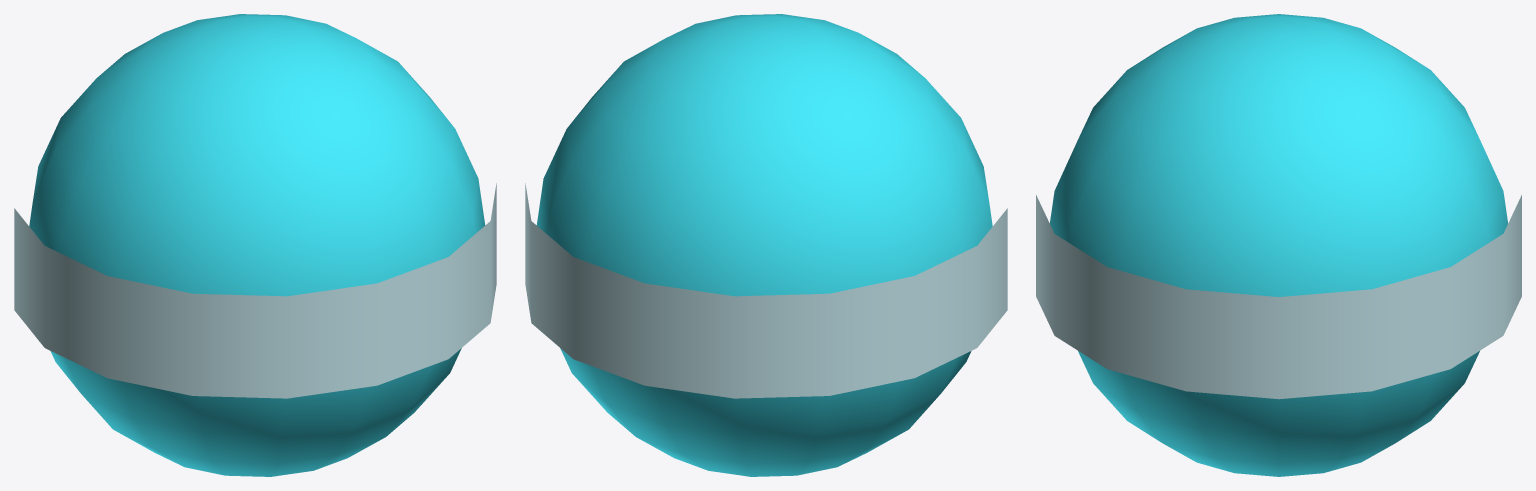
File: snake_cyan_body.glb
3 views of the same model, side by side, from view 1: azimuth 30°, elevation 25°; view 2: azimuth 150°, elevation 25°; view 3: azimuth 270°, elevation 25° (orthographic).
Size of the model in its own units: 0.69 by 0.66 by 0.69.
